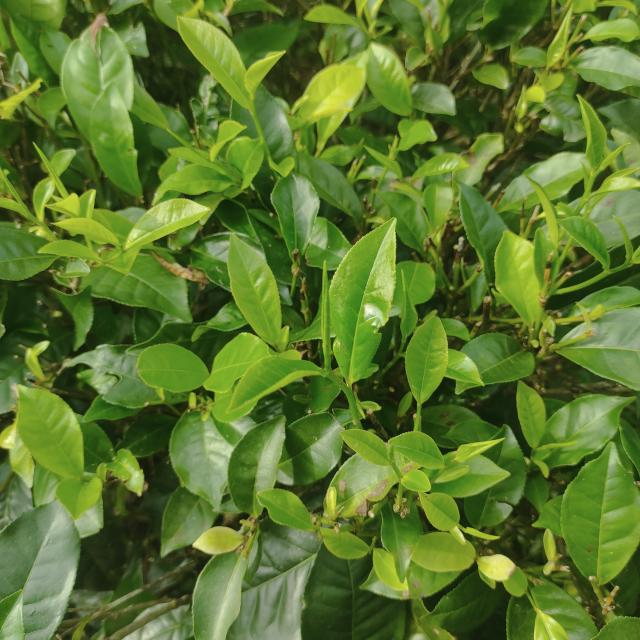unopened_leaf: (25, 136, 72, 197), (316, 256, 341, 370), (0, 166, 38, 221), (590, 136, 634, 180), (382, 438, 403, 470)
